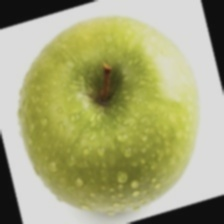apple: (38, 40, 206, 213)
